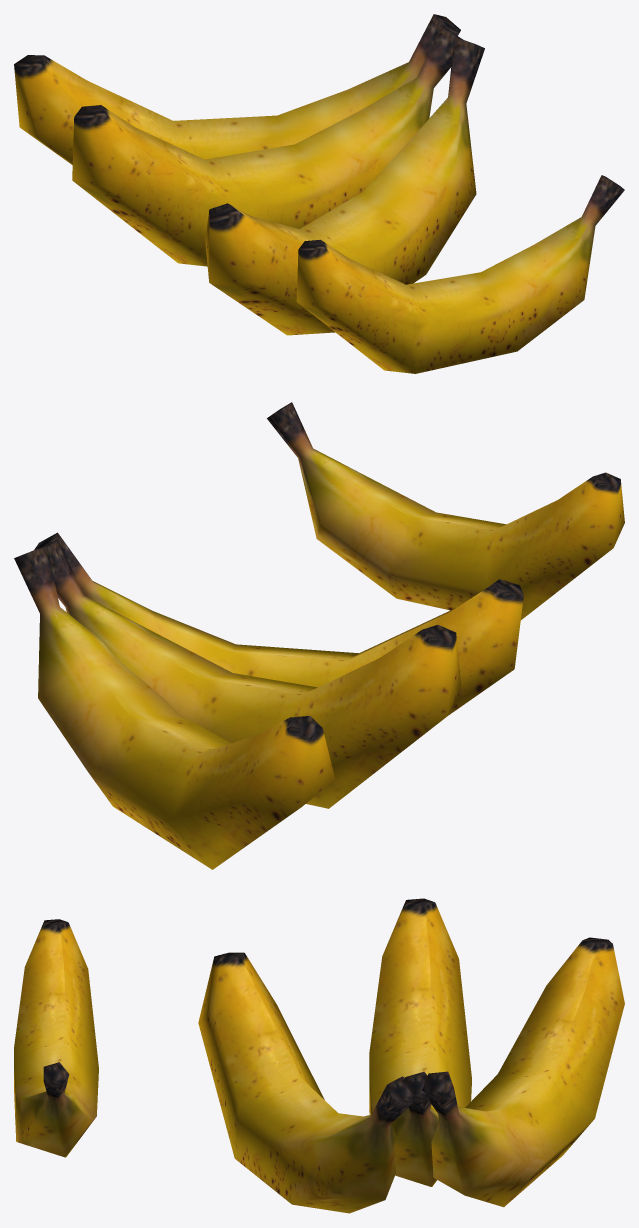
File: Banana.fbx
3 renders of one model, top to bottom at view 1: azimuth 30°, elevation 25°; view 2: azimuth 150°, elevation 25°; view 3: azimuth 270°, elevation 25°, orthographic. The views are drawn at different scales.
Visible parts, largest first — view 1: Banana, Banana_01; view 2: Banana, Banana_01; view 3: Banana, Banana_01.
Boxes of the visible parts, x1=… form: Banana: x1=14, y1=14, x2=484, y2=335; Banana_01: x1=296, y1=175, x2=624, y2=373; Banana: x1=14, y1=532, x2=523, y2=869; Banana_01: x1=267, y1=402, x2=624, y2=620; Banana: x1=198, y1=898, x2=624, y2=1213; Banana_01: x1=14, y1=919, x2=98, y2=1157.
Bounding box in the file's own units: 23.3 × 11.79 × 32.18.
